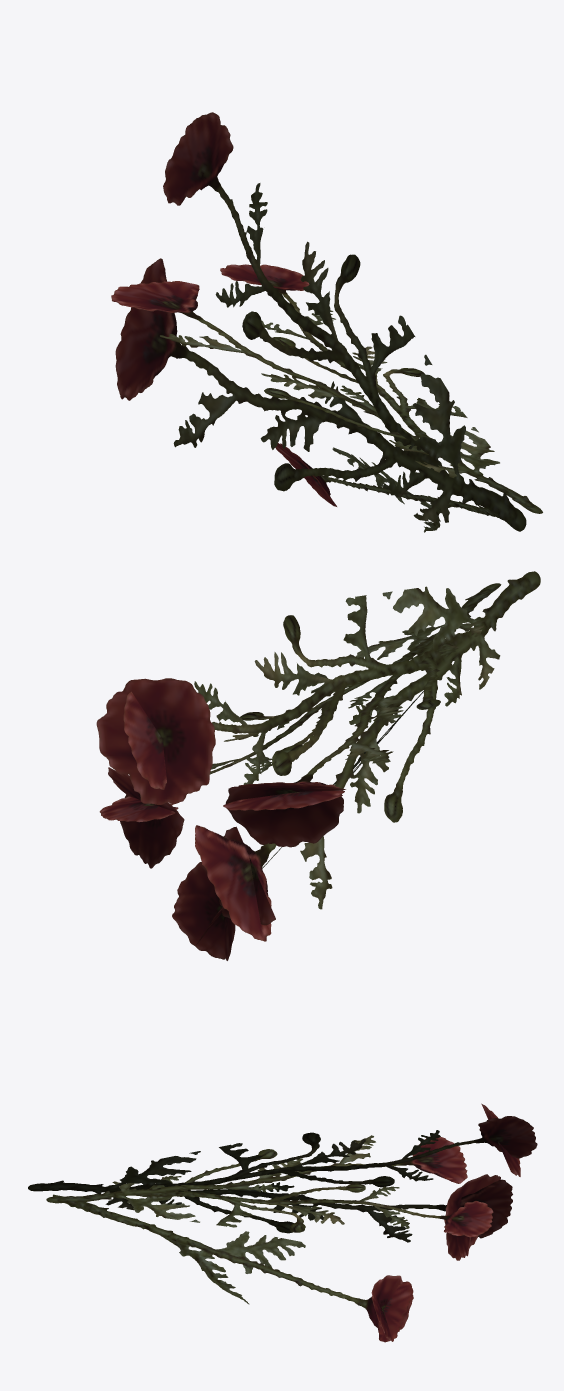
Rendered from MEP_RedFlower_01_S.fbx.
3 views of the same model, one above another, from view 1: azimuth 30°, elevation 25°; view 2: azimuth 150°, elevation 25°; view 3: azimuth 270°, elevation 25° (orthographic). The views are drawn at different scales.
Visible parts, largest first — view 1: MEP_RedFlower_01_S; view 2: MEP_RedFlower_01_S; view 3: MEP_RedFlower_01_S.
Boxes of the visible parts, left/top/right/bottom form: MEP_RedFlower_01_S: left=111, top=112, right=542, bottom=532; MEP_RedFlower_01_S: left=96, top=571, right=540, bottom=960; MEP_RedFlower_01_S: left=28, top=1103, right=537, bottom=1342.
Bounding box in the file's own units: 0.5409 × 0.6347 × 1.06.
